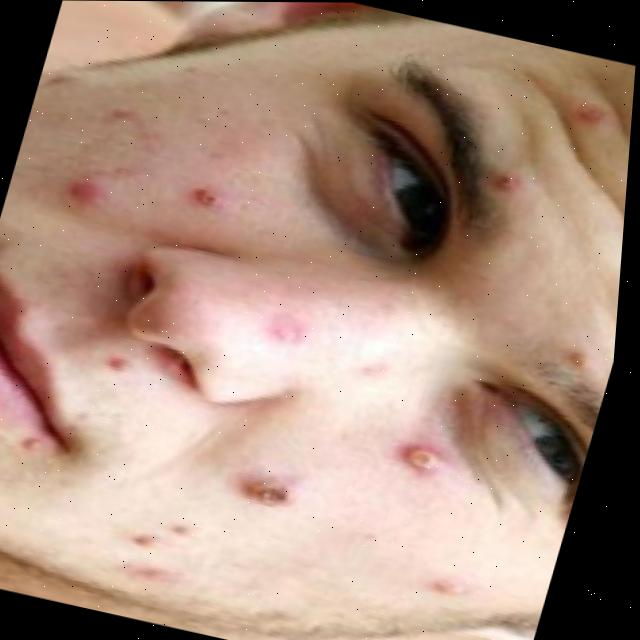Eczema: (64, 97, 165, 209), (225, 454, 302, 530), (121, 524, 182, 595), (408, 567, 466, 617), (559, 92, 605, 140), (487, 155, 525, 205), (401, 431, 439, 477), (257, 298, 303, 336), (195, 173, 227, 209)
